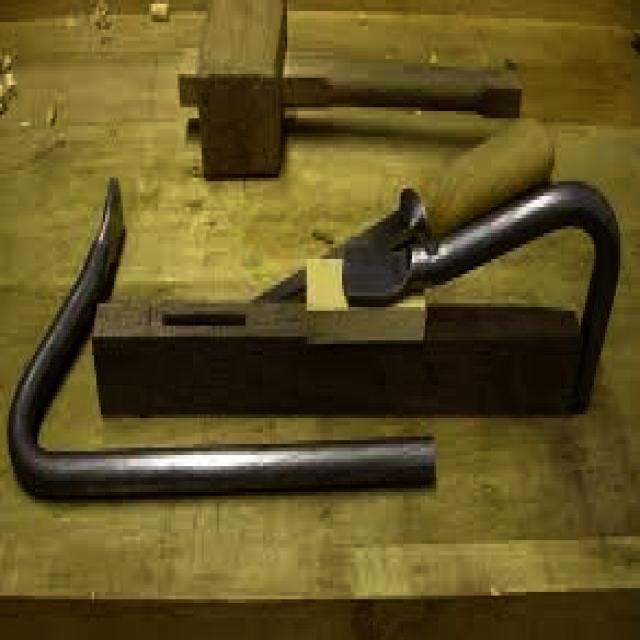hammer: (156, 0, 526, 196)
